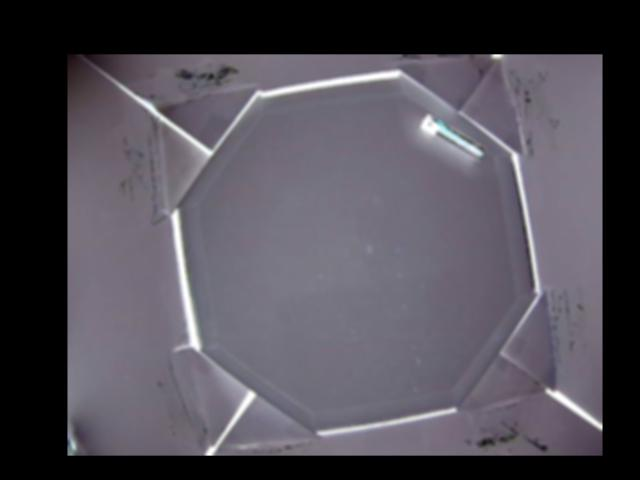Battery: (419, 112, 484, 158)
